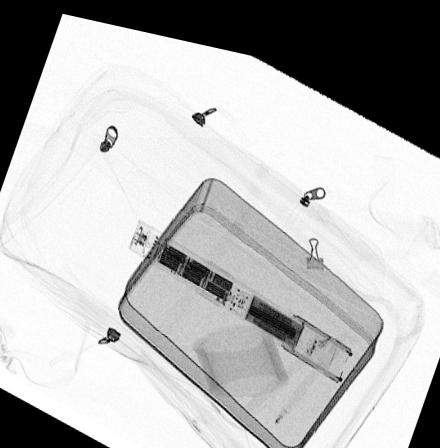Baton: (127, 212, 353, 367)
